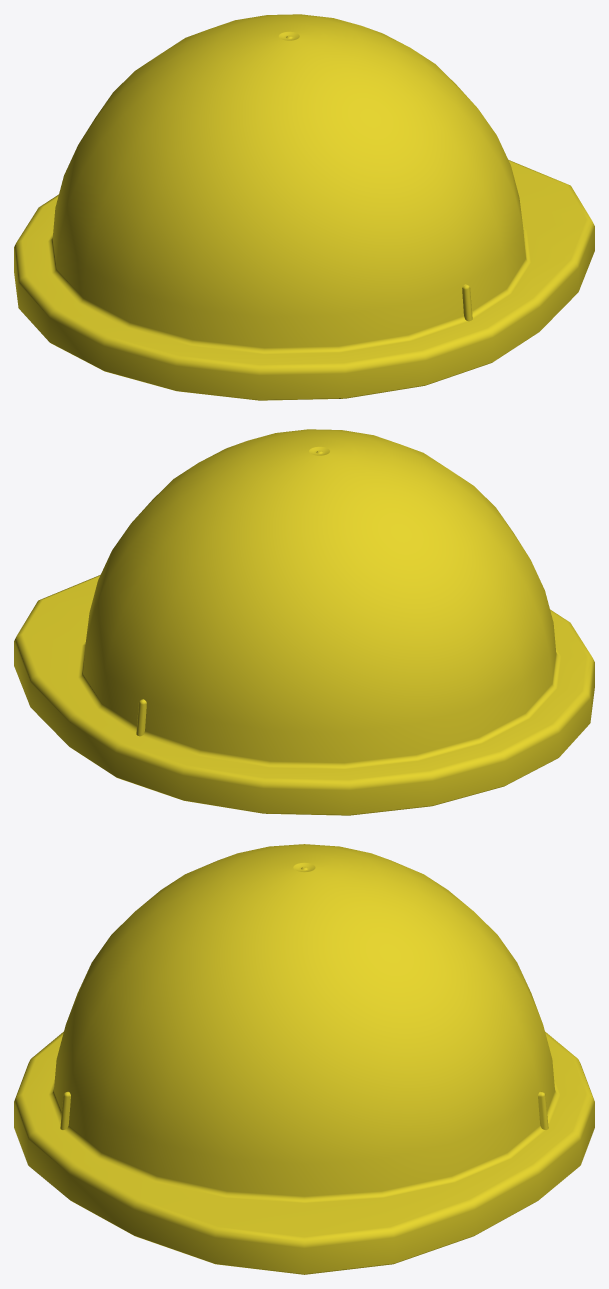
The model's file is gog_mülleimer-top_mesh.fbx.
The picture shows the model from 3 angles, top to bottom: view 1: azimuth 30°, elevation 25°; view 2: azimuth 150°, elevation 25°; view 3: azimuth 270°, elevation 25°; orthographic projection. The views are drawn at different scales.
Visible parts, largest first — view 1: polySurface228; view 2: polySurface228; view 3: polySurface228.
Boxes of the visible parts, x1=… form: polySurface228: x1=14, y1=14, x2=594, y2=400; polySurface228: x1=14, y1=429, x2=594, y2=815; polySurface228: x1=14, y1=844, x2=594, y2=1274.
Size of the model in its own units: 76.14 by 34.59 by 69.44.
